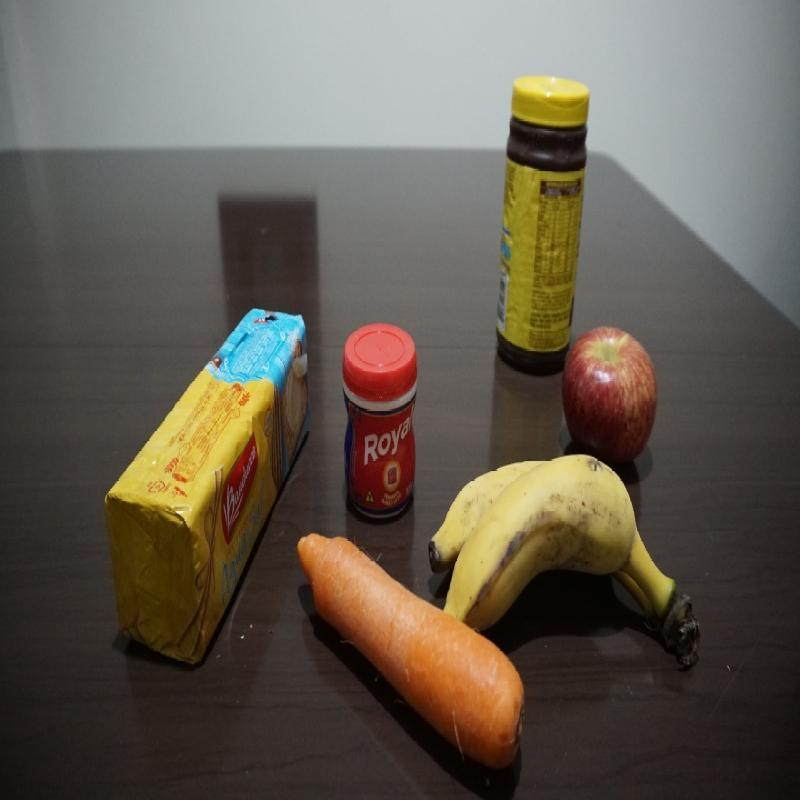Apple: (558, 329, 661, 449)
Banana: (445, 452, 713, 656)
Carrot: (308, 525, 427, 724)
Chocolate Powder: (499, 67, 588, 314)
Cracker: (108, 305, 306, 673)
Yeast: (342, 322, 420, 520)
